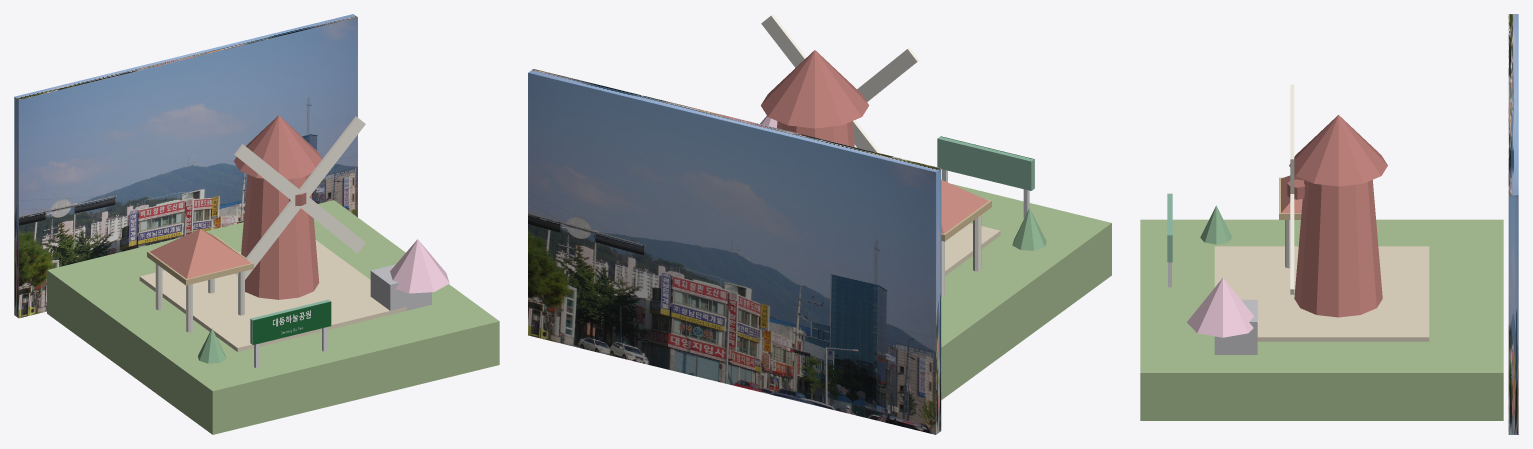
The model's file is building.glb.
The picture shows the model from 3 angles, left to right: view 1: azimuth 30°, elevation 25°; view 2: azimuth 150°, elevation 25°; view 3: azimuth 270°, elevation 25°; orthographic projection. The views are drawn at different scales.
Size of the model in its own units: 13 by 8 by 11.45.
17 materials, 2 textured.
